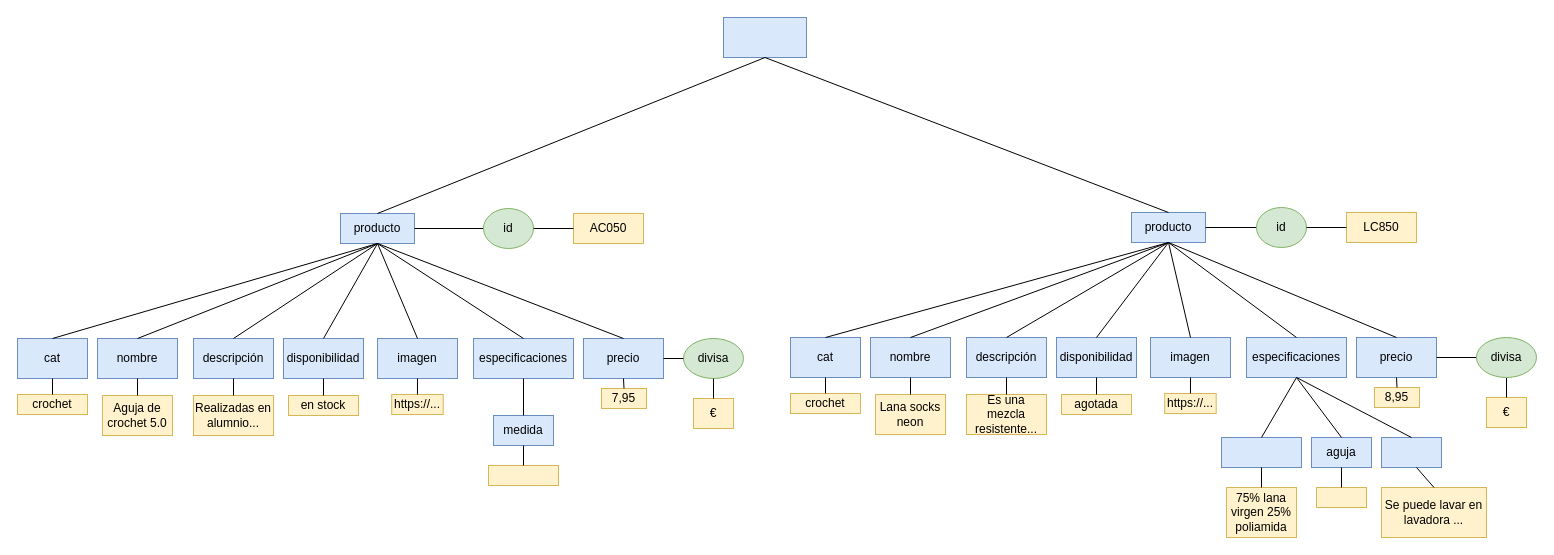
Image size: 1554x555. Some labels were removed from this diagram. Here are the shapes that lost their labels. From the top down, the centre of each, then its label:
the point at 764,37: merceria
the point at 1261,452: composicion
the point at 1411,452: lavado
the point at 523,475: 5 mm
the point at 1341,497: 2-3 mm
